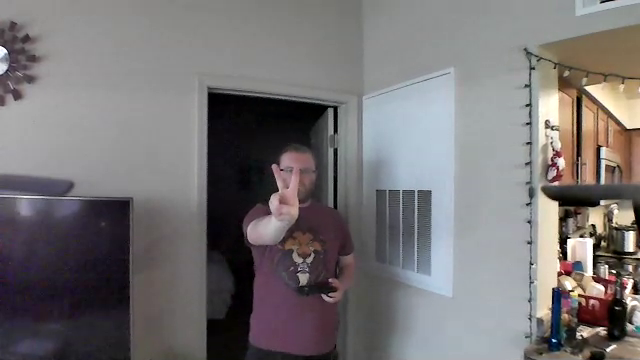peace: (264, 158, 310, 223)
